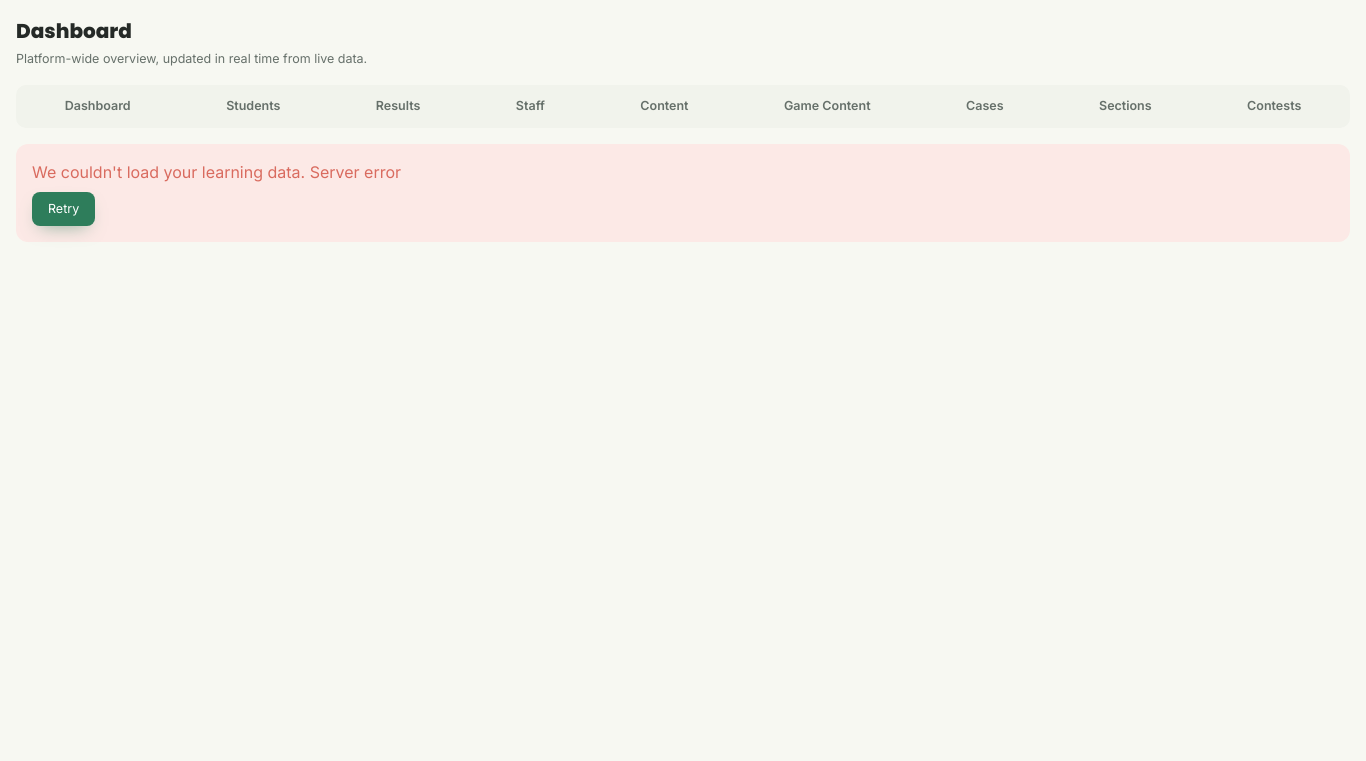
it: AdminDashboard › shows an error with a Retry button that re-fetches on click
This screenshot has width=1366, height=761.
expect the text "We couldn't load your learning data. Server error" is shown: met, box [32,162,401,182]
Click the button "Retry". click: (64, 209)
box: [32,192,95,226]
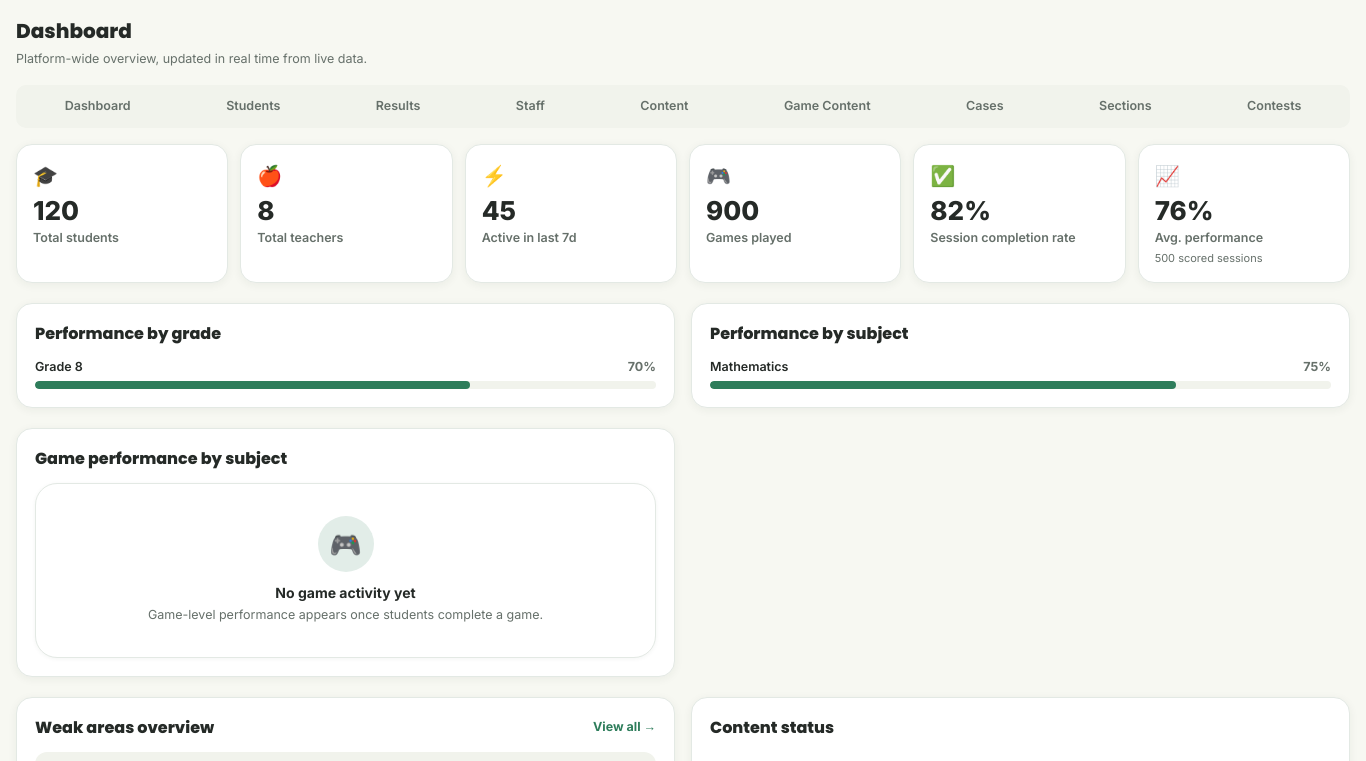
expect the text "120" is shown: met, box [33,194,79,226]
